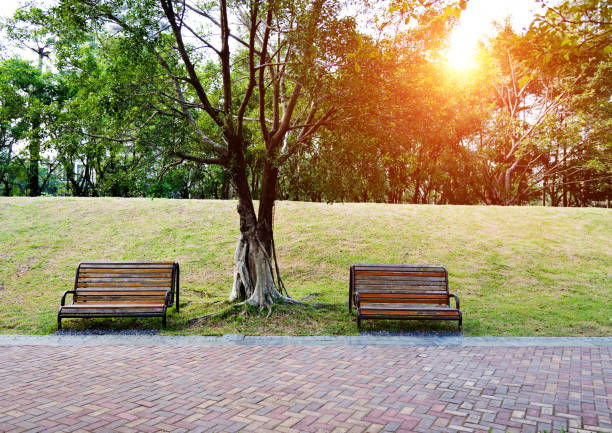bench: (53, 259, 183, 331), (347, 262, 466, 333)
